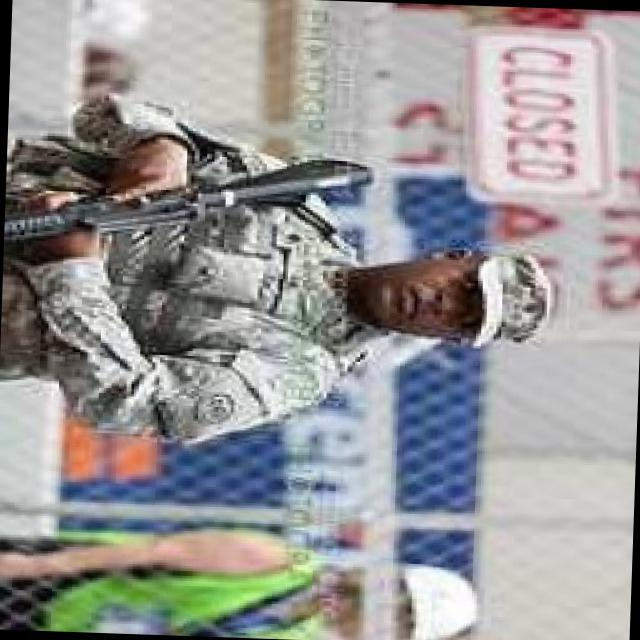long weapon: (4, 132, 368, 269)
